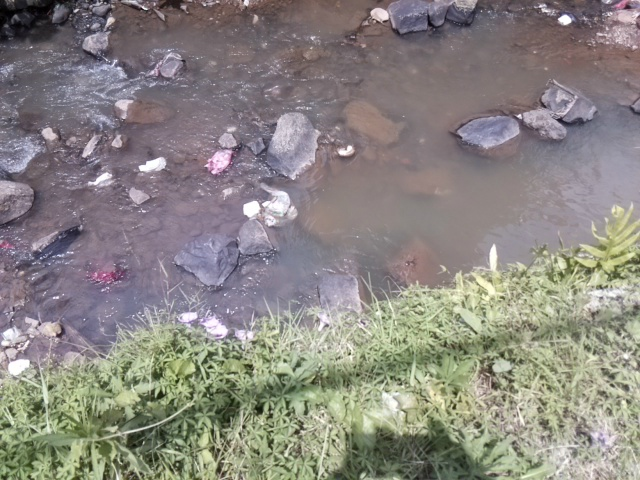Sampah_Plastik: (264, 183, 291, 223), (203, 146, 235, 176), (89, 268, 127, 284)
Sampah_Styrofoam: (7, 357, 32, 377), (136, 158, 165, 174), (243, 200, 261, 218), (555, 12, 572, 27)
